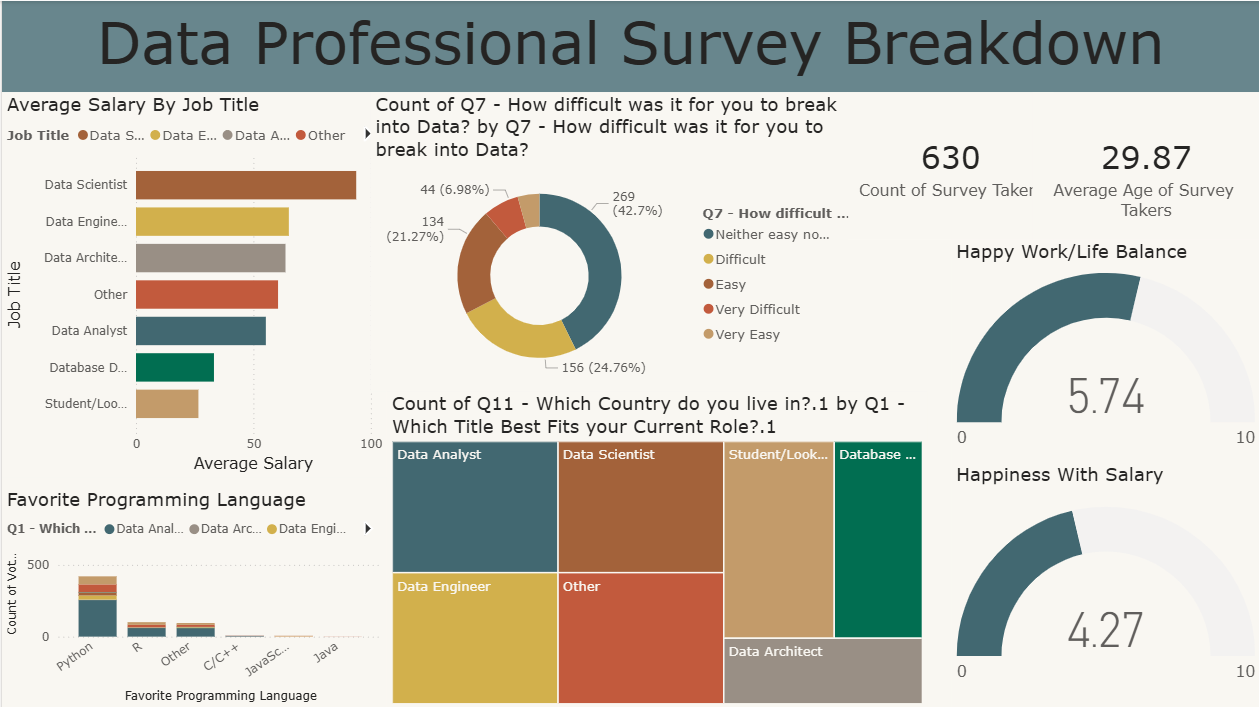

The page's visual inventory and layout, read from the dashboard file:
{"tool":"powerbi","page":{"name":"Page 1","canvas":[1280,720],"ordinal":0},"visuals":[{"type":"textbox","box":[0,0,1280.3,93],"z":0},{"type":"card","fields":{"Values":["Count(Data Professional Survey.Unique ID)"]},"box":[861.1,92.7,209.1,150.3],"z":1000},{"type":"card","fields":{"Values":["Avg(Data Professional Survey.Q10 - Current Age)"]},"box":[1049.8,92.7,230.5,150.3],"z":2000},{"type":"barChart","title":"Average Salary By Job Title ","fields":{"Category":["Data Professional Survey.Q1 - Which Title Best Fits your Current Role?.1"],"Y":["Avg(Data Professional Survey.Average Salary)"],"Series":["Data Professional Survey.Q1 - Which Title Best Fits your Current Role?.1"]},"box":[0,92.7,392.1,392.1],"z":3000},{"type":"columnChart","title":"Favorite Programming Language","fields":{"Category":["Data Professional Survey.Q5 - Favorite Programming Language.1"],"Y":["CountNonNull(Data Professional Survey.Unique ID)"],"Series":["Data Professional Survey.Q1 - Which Title Best Fits your Current Role?.1"]},"box":[0,495,392,225],"z":4000},{"type":"treemap","fields":{"Group":["Data Professional Survey.Q1 - Which Title Best Fits your Current Role?.1"],"Values":["Count(Data Professional Survey.Q11 - Which Country do you live in?.1)"]},"box":[392,342.8,550,377.5],"z":6000},{"type":"gauge","title":"Happiness With Salary","fields":{"Y":["Avg(Data Professional Survey.Q6 - How Happy are you in your Current Position with the following? (Salary))"],"MinValue":["Min(Data Professional Survey.Q6 - How Happy are you in your Current Position with the following? (Salary))"],"MaxValue":["Max(Data Professional Survey.Q6 - How Happy are you in your Current Position with the following? (Salary))1"]},"box":[966.2,469,314.1,249.7],"z":7000},{"type":"gauge","title":"Happy Work/Life Balance","fields":{"Y":["Avg(Data Professional Survey.Q6 - How Happy are you in your Current Position with the following? (Work/Life Balance))"],"MinValue":["Min(Data Professional Survey.Q6 - How Happy are you in your Current Position with the following? (Work/Life Balance))"],"MaxValue":["Max(Data Professional Survey.Q6 - How Happy are you in your Current Position with the following? (Work/Life Balance))1"]},"box":[966.2,243,314.1,226],"z":8000},{"type":"donutChart","fields":{"Category":["Data Professional Survey.Q7 - How difficult was it for you to break into Data?"],"Y":["CountNonNull(Data Professional Survey.Q7 - How difficult was it for you to break into Data?)"]},"box":[383.1,93,478.3,249.8],"z":9000}]}

Visuals, with their boxes in screenshot pixels (x1, y1, x2, y2), scaled from the page's 1280x720 canvas onto the 1259x707 screenshot:
textbox: box=[0, 0, 1258, 91]
card - Count(Data Professional Survey.Unique ID): box=[847, 91, 1053, 239]
card - Avg(Data Professional Survey.Q10 - Current Age): box=[1033, 91, 1258, 239]
"Average Salary By Job Title " barChart: box=[0, 91, 386, 476]
"Favorite Programming Language" columnChart: box=[0, 486, 386, 706]
treemap - Data Professional Survey.Q1 - Which Title Best Fits your Current Role?.1 x Count(Data Professional Survey.Q11 - Which Country do you live in?.1): box=[386, 337, 927, 706]
"Happiness With Salary" gauge: box=[950, 461, 1258, 706]
"Happy Work/Life Balance" gauge: box=[950, 239, 1258, 461]
donutChart - Data Professional Survey.Q7 - How difficult was it for you to break into Data? x CountNonNull(Data Professional Survey.Q7 - How difficult was it for you to break into Data?): box=[377, 91, 847, 337]
